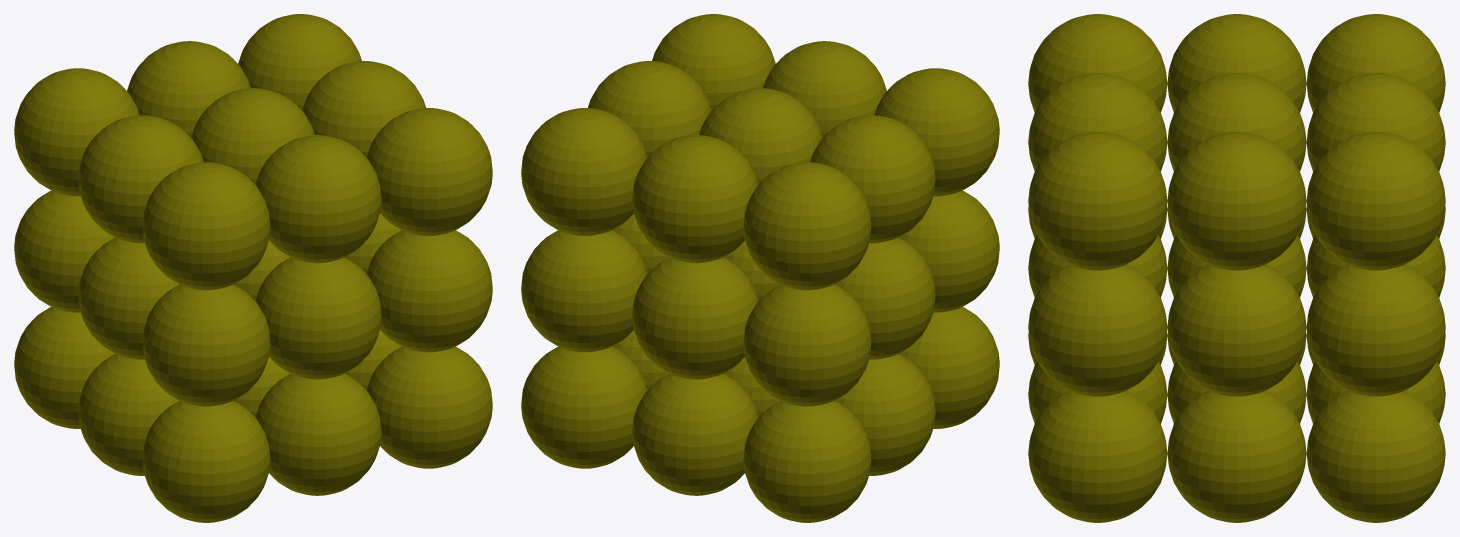
Rendered from skin_7_2_model.fbx.
3 views of the same model, side by side, from view 1: azimuth 30°, elevation 25°; view 2: azimuth 150°, elevation 25°; view 3: azimuth 270°, elevation 25° (orthographic). The views are drawn at different scales.
Parts seen in each view (by area): view 1: Sphere.001; view 2: Sphere.001; view 3: Sphere.001.
Part boxes in pixels (x1,y1,x2,y2): Sphere.001: (14, 14, 492, 522); Sphere.001: (521, 14, 999, 522); Sphere.001: (1028, 14, 1445, 522).
Bounding box in the file's own units: 600 × 600 × 600.
